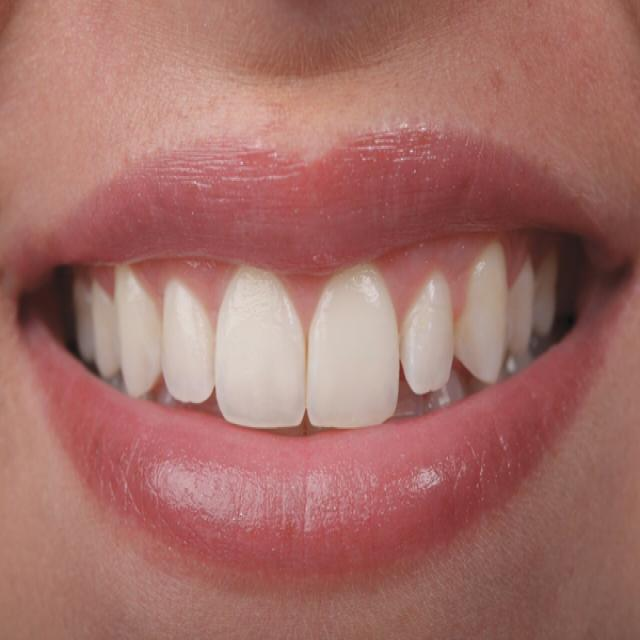tooth: (303, 262, 402, 430), (212, 258, 306, 424), (163, 267, 212, 413), (462, 248, 516, 379), (114, 266, 165, 402), (403, 271, 457, 394), (503, 261, 540, 355), (522, 244, 562, 326), (90, 285, 122, 381), (73, 284, 100, 362)
